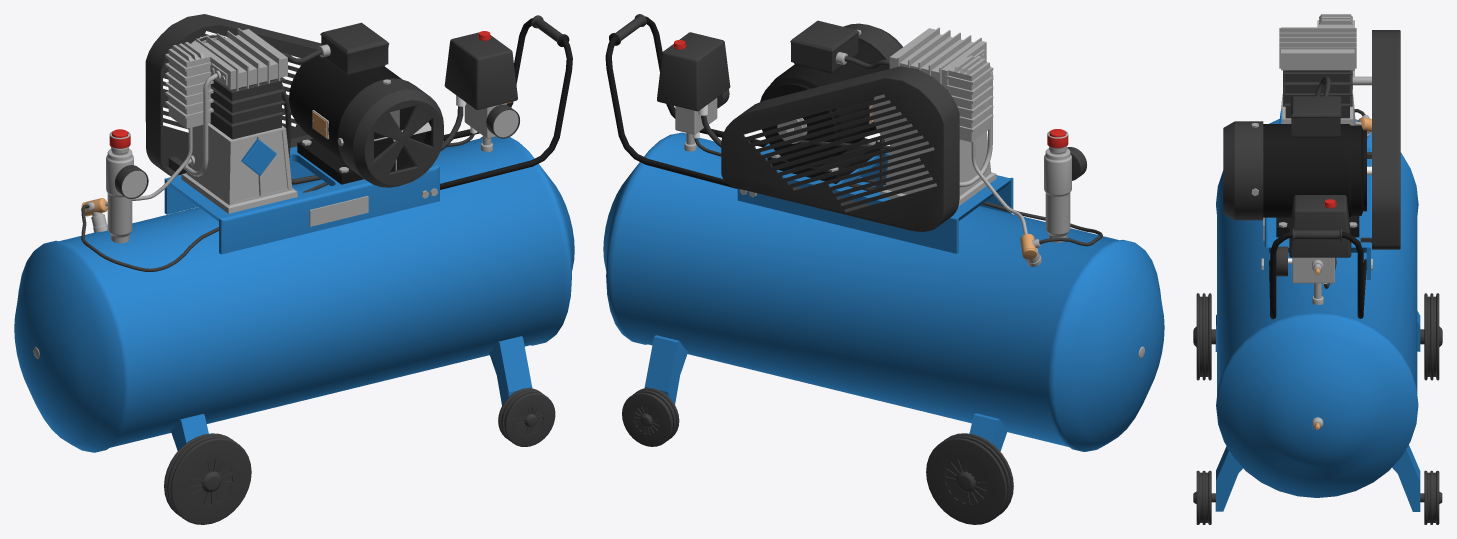
The model's file is air_compressor_2.glb.
3 views of the same model, side by side, from view 1: azimuth 30°, elevation 25°; view 2: azimuth 150°, elevation 25°; view 3: azimuth 270°, elevation 25° (orthographic). The views are drawn at different scales.
Visible parts, largest first — view 1: Cylinder, Cube, Cylinder.024, Plane.004, Cube.007, Cylinder.021, Cylinder.010, Cube.005, Cube.008, Cube.009, Cube.011, Cube.013 (+14 smaller); view 2: Cylinder, Plane.004, Cylinder.022, Cube, Cylinder.010, Cube.005, Cube.011, Cube.009, Cylinder.001, Cylinder.023, Cube.013, Cube.012 (+9 smaller); view 3: Cylinder, Cylinder.010, Plane.004, Cylinder.024, Cube.009, Cube.005, Cube.012, Cube.008, Cube.013, Cylinder.021, Cylinder.022, Cube (+9 smaller).
Part boxes in pixels (x1,y1,x2,y2): Cylinder: (14,136,574,452); Cube: (164,146,439,254); Cylinder.024: (337,78,443,187); Plane.004: (145,14,321,176); Cube.007: (181,123,297,213); Cylinder.021: (164,433,251,524); Cylinder.010: (289,55,431,172); Cube.005: (444,32,517,109); Cube.008: (210,77,285,139); Cube.009: (191,28,287,91); Cube.011: (165,42,213,128); Cube.013: (440,15,572,189); Cylinder: (603,132,1164,451); Plane.004: (721,66,959,231); Cylinder.022: (926,433,1013,524); Cube: (737,143,1013,253); Cylinder.010: (760,40,889,166); Cube.005: (657,32,730,111); Cube.011: (944,55,993,142); Cube.009: (889,27,986,88); Cylinder.001: (1044,129,1071,242); Cylinder.023: (622,388,679,446); Cube.013: (605,14,768,188); Cube.012: (790,20,859,73); Cylinder: (1216,119,1418,497); Cylinder.010: (1263,124,1366,217); Plane.004: (1360,30,1400,249); Cylinder.024: (1223,121,1263,220); Cube.009: (1279,27,1356,70); Cube.005: (1289,195,1351,257); Cube.012: (1291,96,1341,137); Cube.008: (1283,70,1352,118); Cube.013: (1269,228,1366,319); Cylinder.021: (1193,293,1215,380); Cylinder.022: (1420,293,1442,380); Cube: (1264,148,1370,279).
Bounding box in the file's own units: 4.89 × 3.57 × 2.11.
